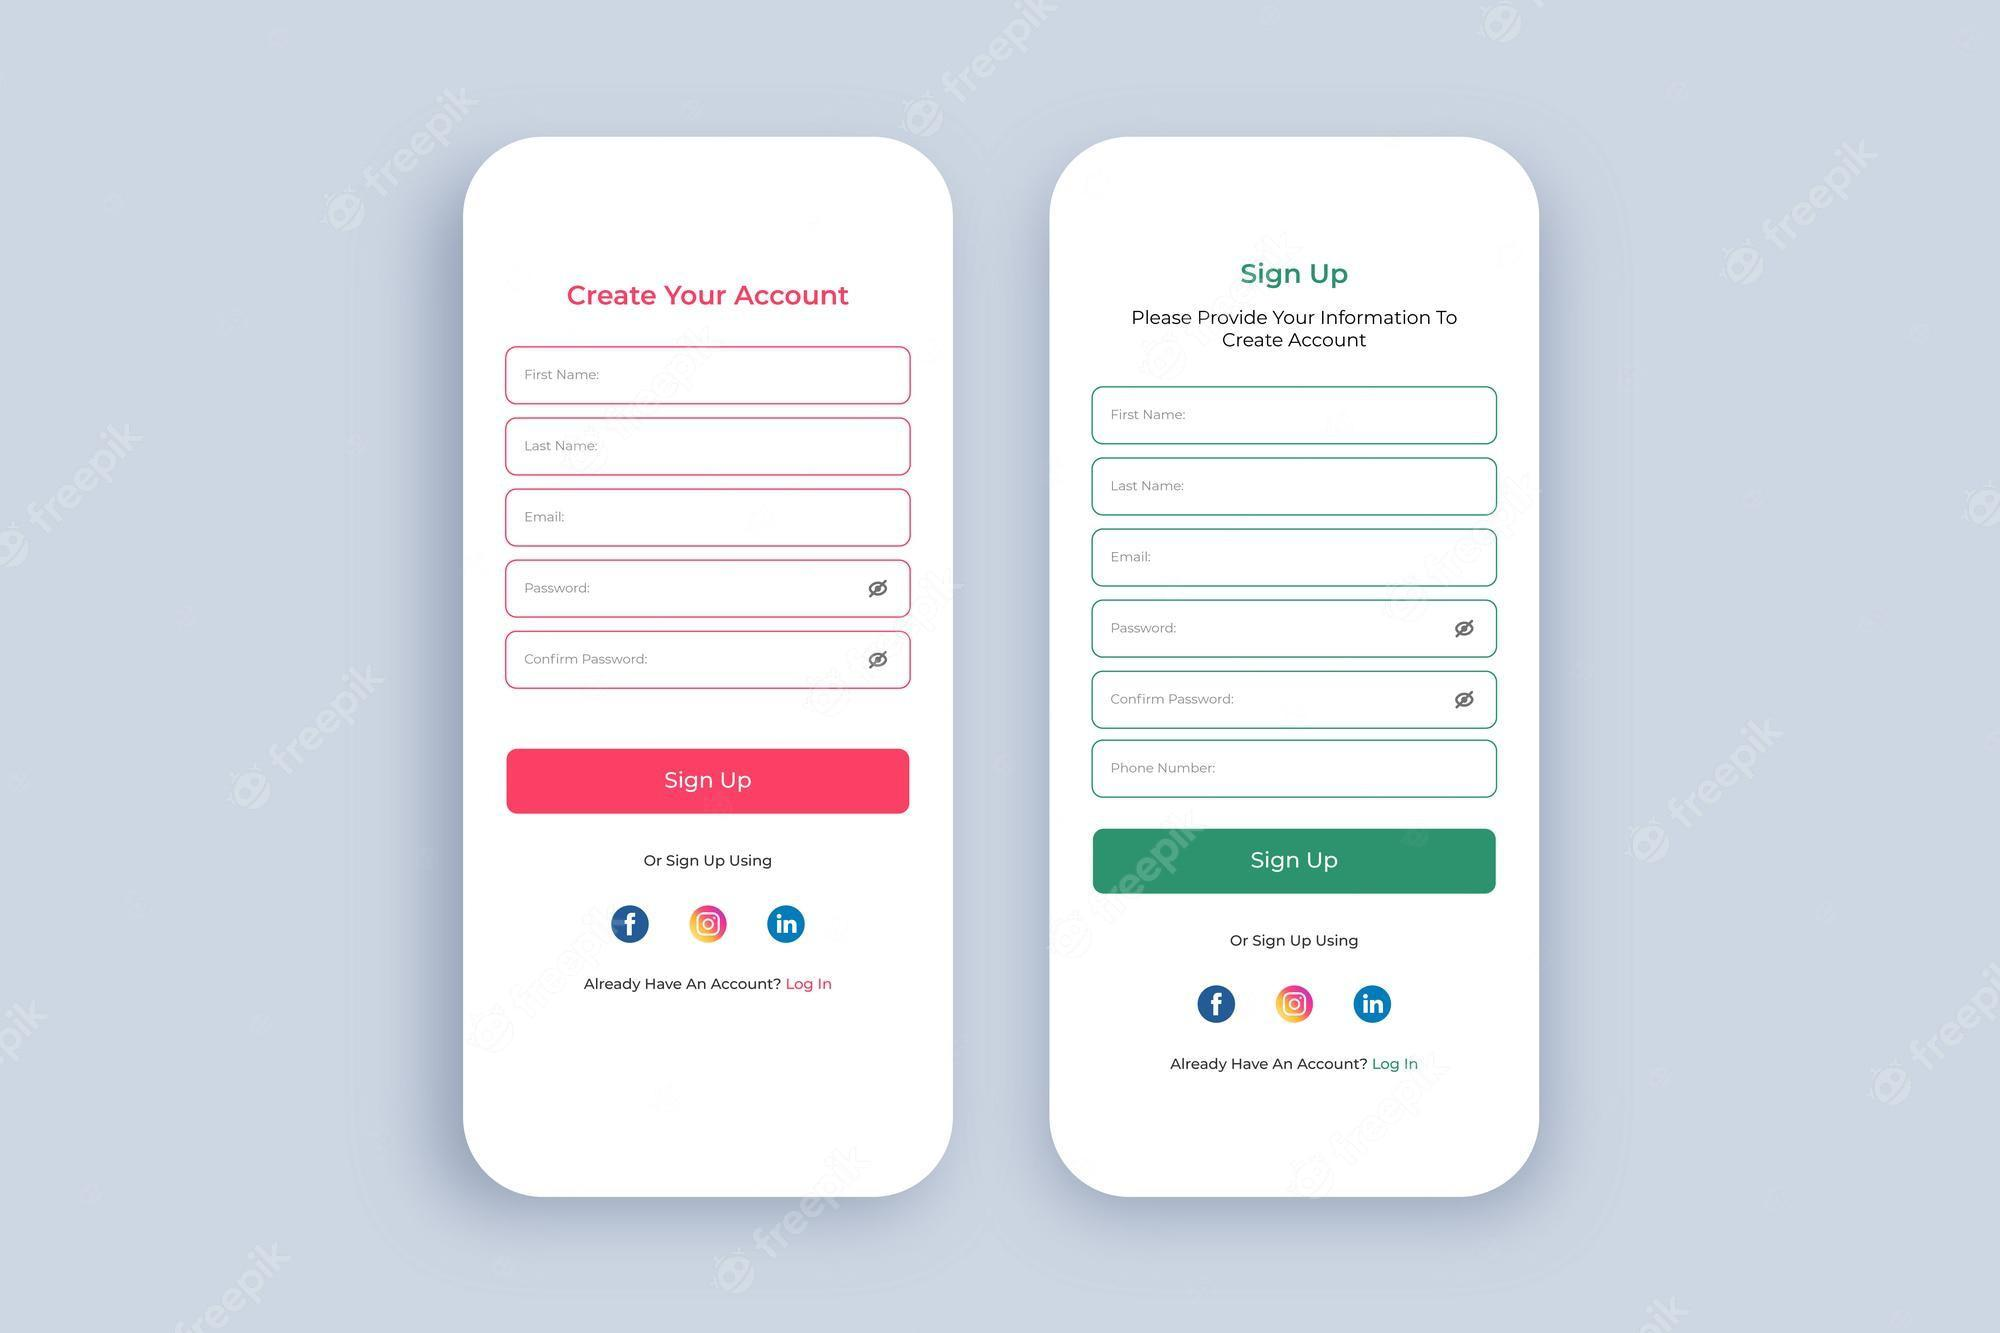button: (506, 745, 912, 815), (1091, 830, 1497, 894), (686, 900, 729, 948), (1196, 983, 1239, 1030), (1355, 980, 1393, 1031), (1276, 982, 1316, 1028), (767, 902, 807, 948), (611, 903, 651, 948)
input: (503, 344, 914, 406), (1090, 669, 1500, 732), (1091, 382, 1500, 445), (1091, 458, 1500, 521), (506, 626, 913, 689), (506, 556, 914, 617), (1091, 525, 1500, 586), (1091, 600, 1500, 661), (1091, 739, 1500, 800), (504, 417, 914, 476), (504, 489, 916, 546)
